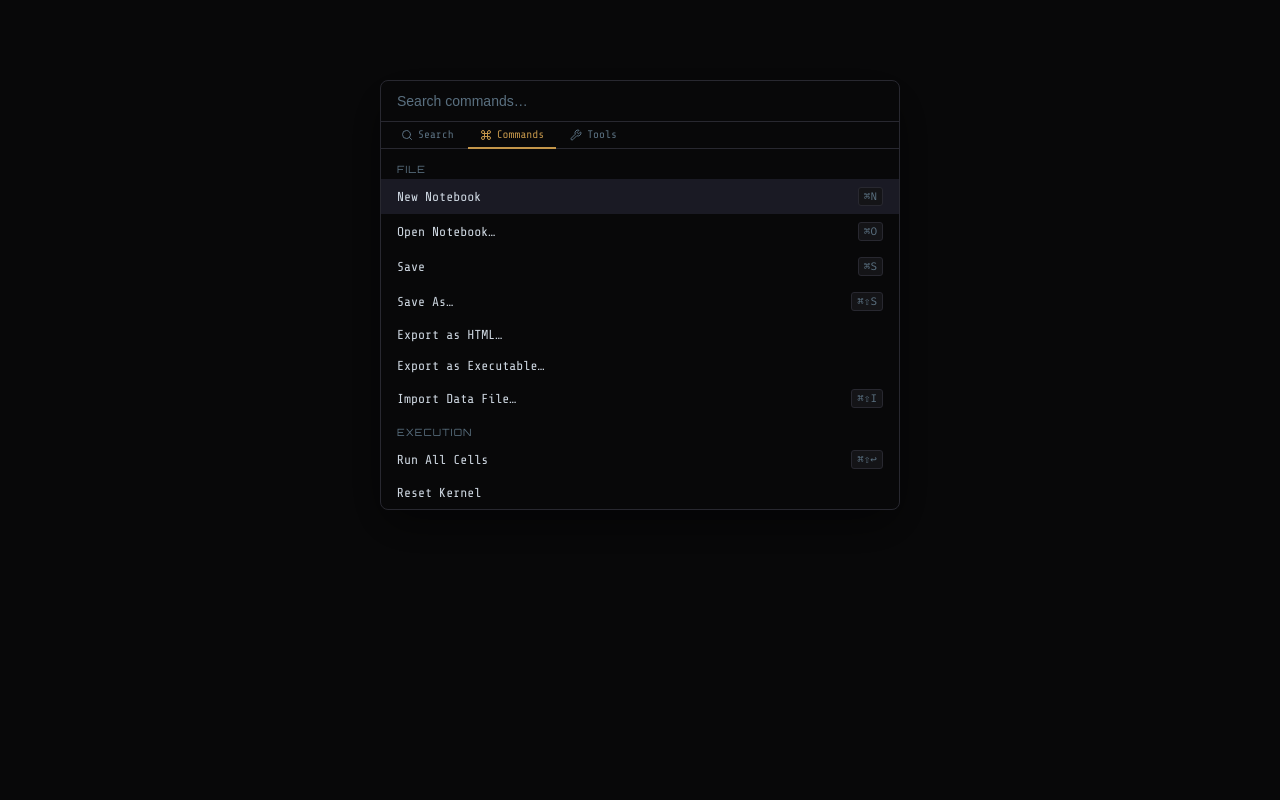
it: CommandPalette — search › shows empty state when no content matches
The image size is (1280, 800).
Type "zzznothing" into the field with class "cmd-palette-input". click: (640, 102)
box: left=381, top=81, right=899, bottom=122
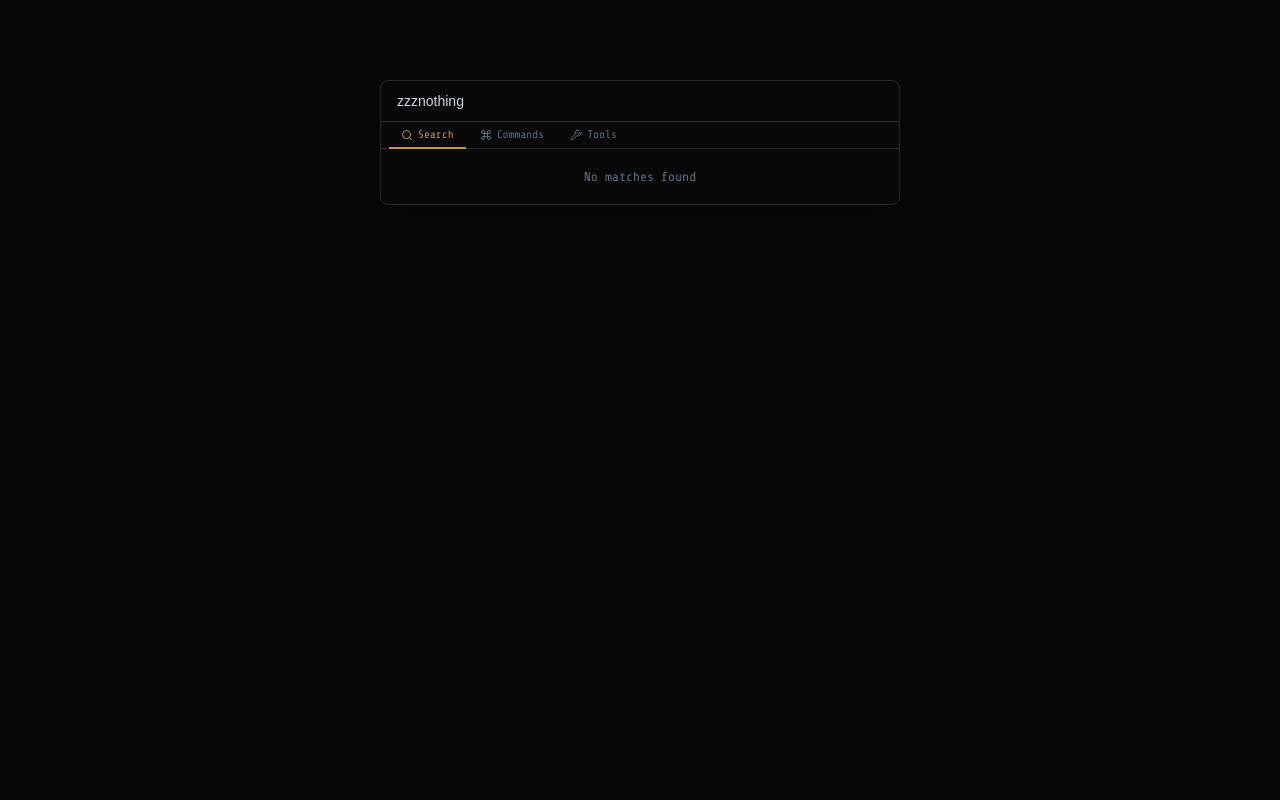
Expected: the text "No matches found" is shown, left=584, top=169, right=696, bottom=184
